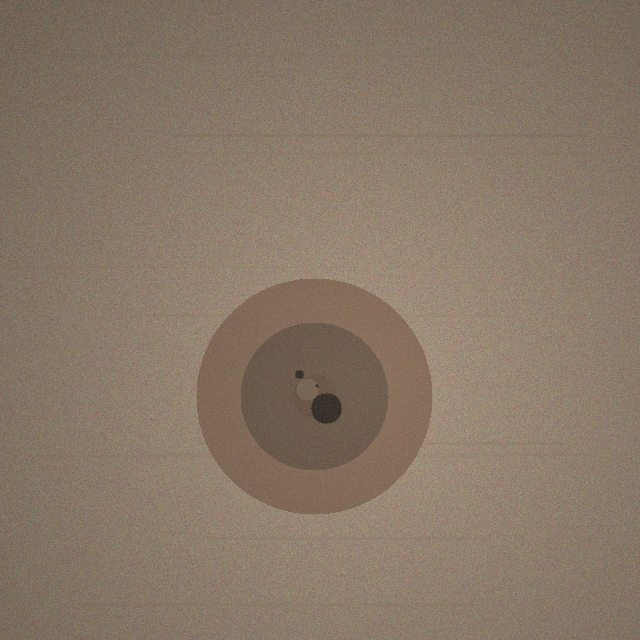shrinkage: (196, 278, 432, 514)
